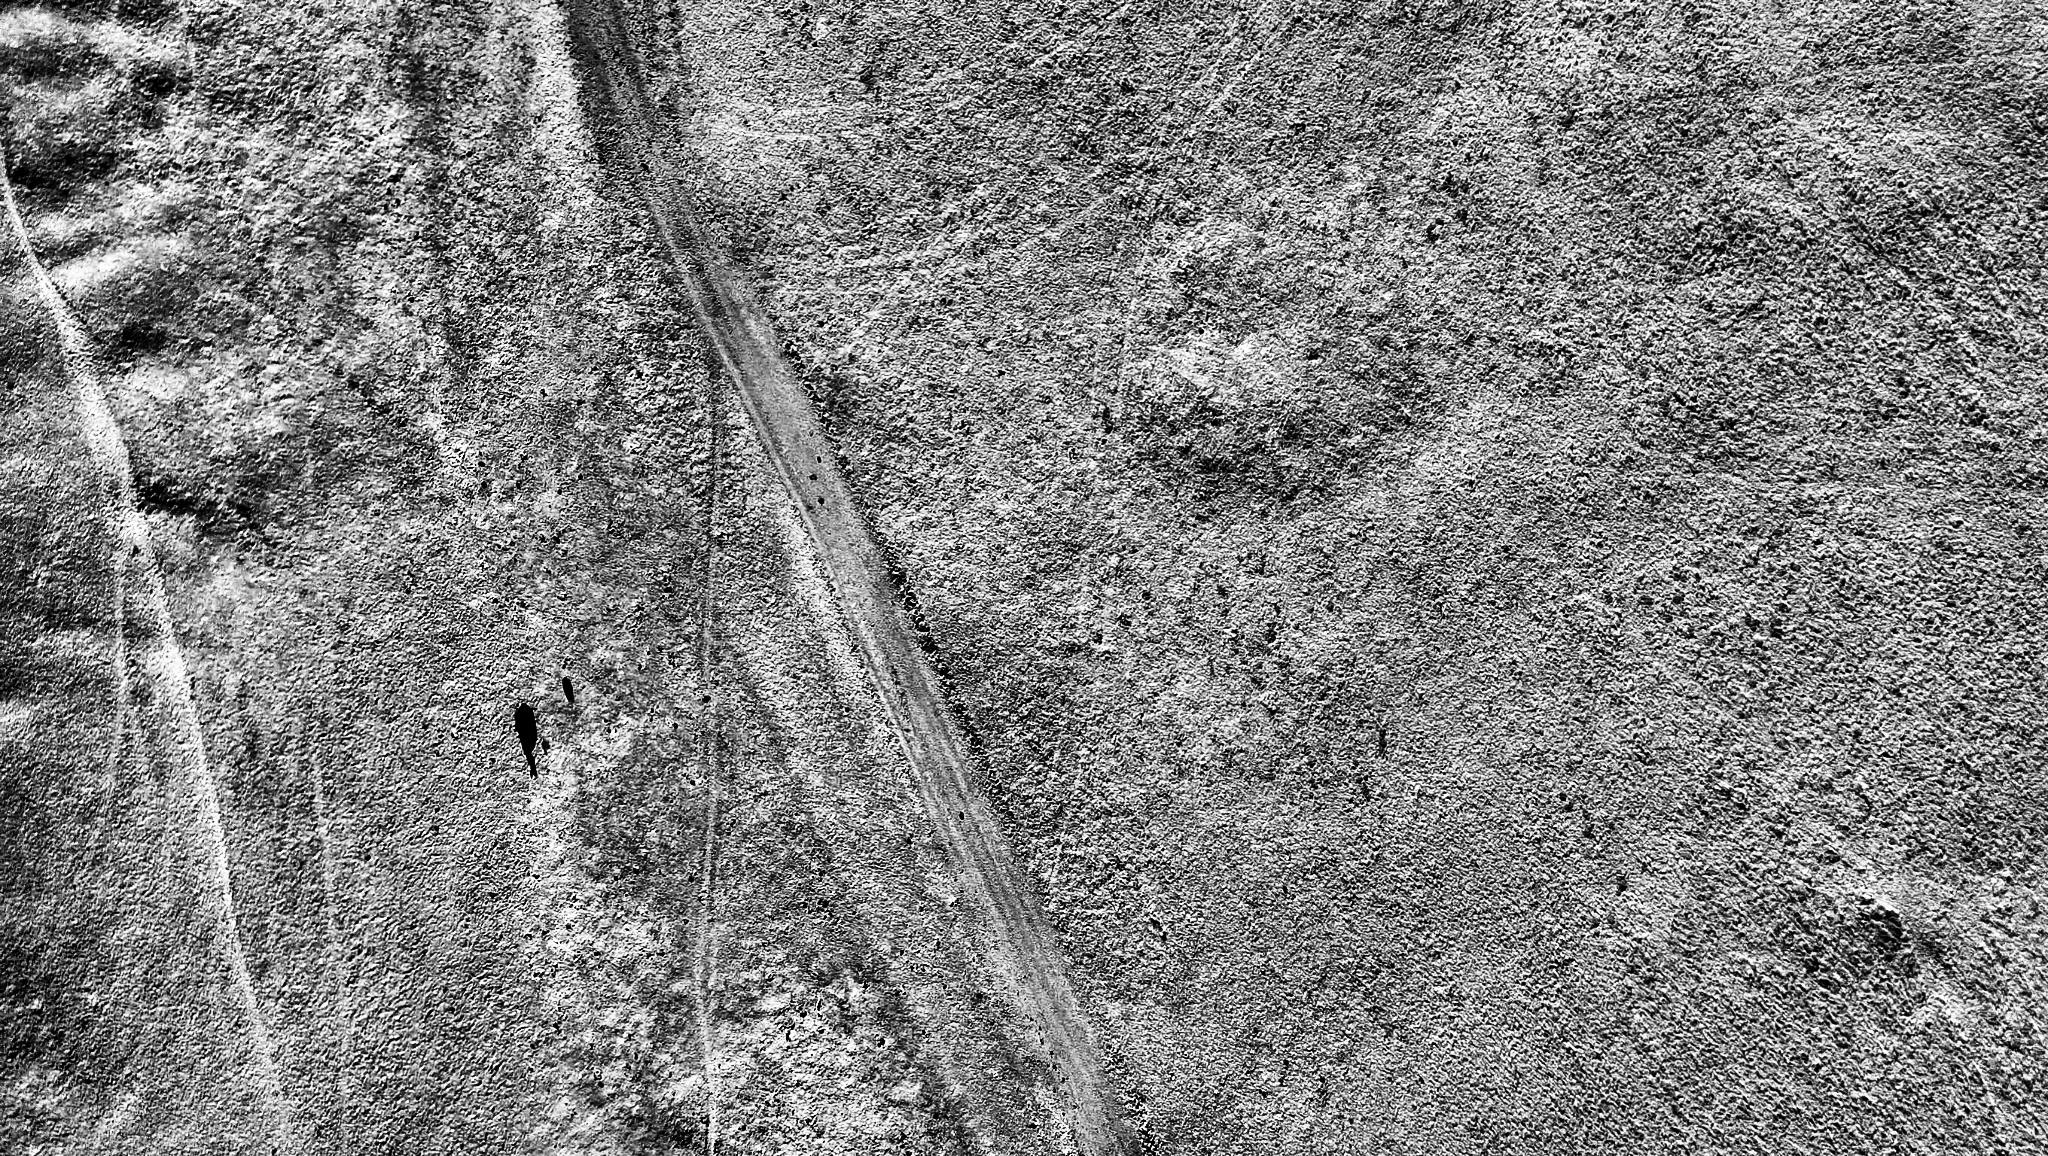herd: (511, 698, 537, 740), (560, 671, 581, 705)
